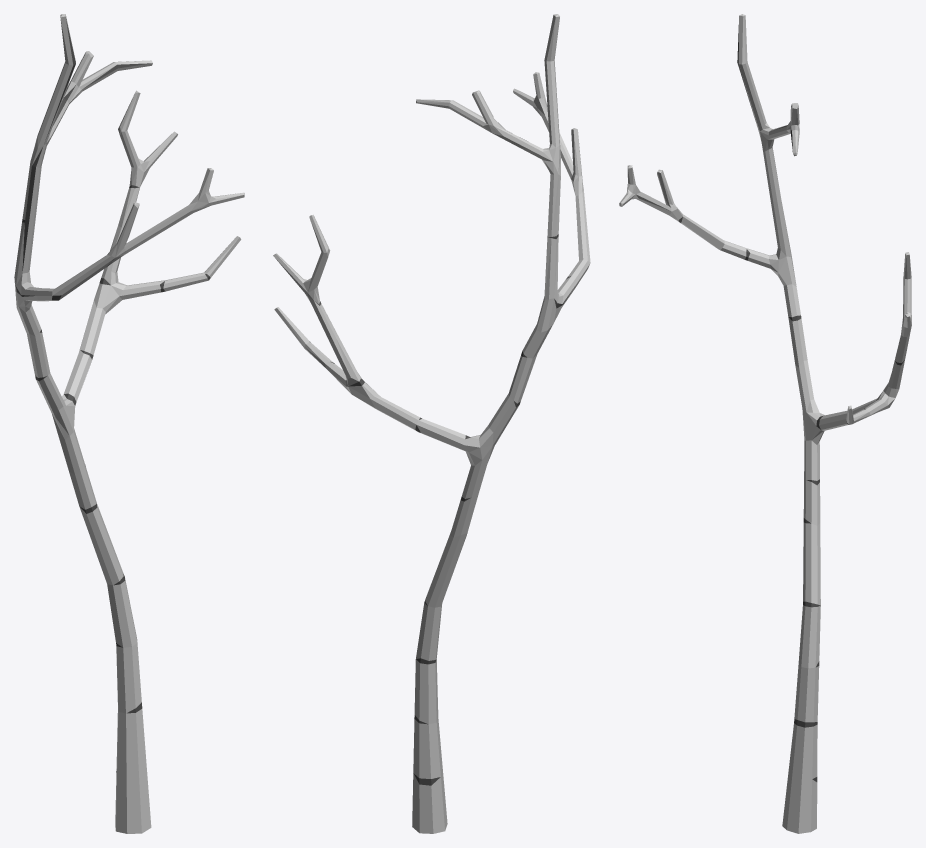
File: mesh_tree_birch_02_dead.fbx
The picture shows the model from 3 angles, left to right: view 1: azimuth 30°, elevation 25°; view 2: azimuth 150°, elevation 25°; view 3: azimuth 270°, elevation 25°; orthographic projection. The views are drawn at different scales.
Visible parts, largest first — view 1: mesh_tree_birch_02_dead_LOD0; view 2: mesh_tree_birch_02_dead_LOD0; view 3: mesh_tree_birch_02_dead_LOD0.
Part boxes in pixels (x1=…): mesh_tree_birch_02_dead_LOD0: x1=14, y1=14, x2=244, y2=833; mesh_tree_birch_02_dead_LOD0: x1=273, y1=14, x2=590, y2=833; mesh_tree_birch_02_dead_LOD0: x1=619, y1=14, x2=911, y2=833.
Size of what is drawn, in the model's own units: 2.15 by 6.76 by 2.33.
